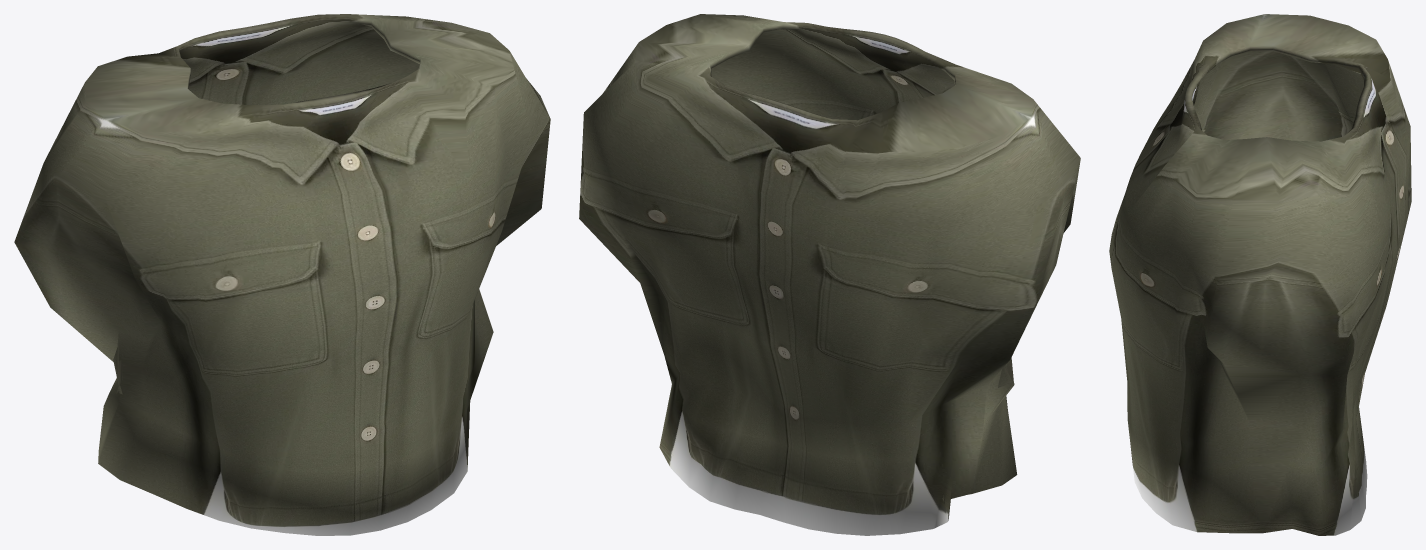
Rendered from 012cdf13-59f5-44b5-acaf-c726c22a552e.glb.
The picture shows the model from 3 angles, left to right: view 1: azimuth 30°, elevation 25°; view 2: azimuth 150°, elevation 25°; view 3: azimuth 270°, elevation 25°; orthographic projection. The views are drawn at different scales.
Visible parts, largest first — view 1: garment; view 2: garment; view 3: garment.
Boxes of the visible parts, bbox=[...] form: garment: bbox=[14, 14, 550, 535]; garment: bbox=[579, 14, 1080, 535]; garment: bbox=[1109, 14, 1411, 535].
Bounding box in the file's own units: 0.5483 × 0.4613 × 0.3221.
Materials: 1 (1 with a texture image).
